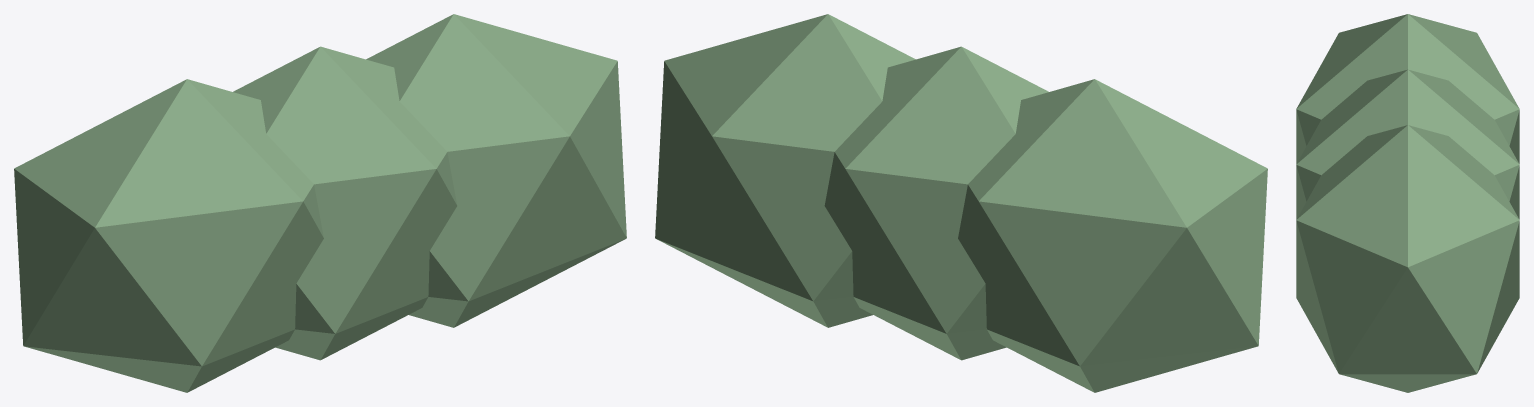
The model's file is Bush.fbx.
3 renders of one model, left to right at view 1: azimuth 30°, elevation 25°; view 2: azimuth 150°, elevation 25°; view 3: azimuth 270°, elevation 25°, orthographic. The views are drawn at different scales.
Visible parts, largest first — view 1: Foliage, Foliage.002, Foliage.001; view 2: Foliage, Foliage.002, Foliage.001; view 3: Foliage.002, Foliage, Foliage.001.
Part boxes in pixels (x1,y1,x2,y2): Foliage: (14,79,323,392); Foliage.002: (366,14,626,327); Foliage.001: (233,46,457,360); Foliage: (958,79,1267,392); Foliage.002: (655,14,915,327); Foliage.001: (824,46,1048,360); Foliage.002: (1296,125,1519,392); Foliage: (1296,14,1519,163); Foliage.001: (1296,69,1519,219).
Size of the model in its own units: 1.78 by 0.9 by 0.6805.
